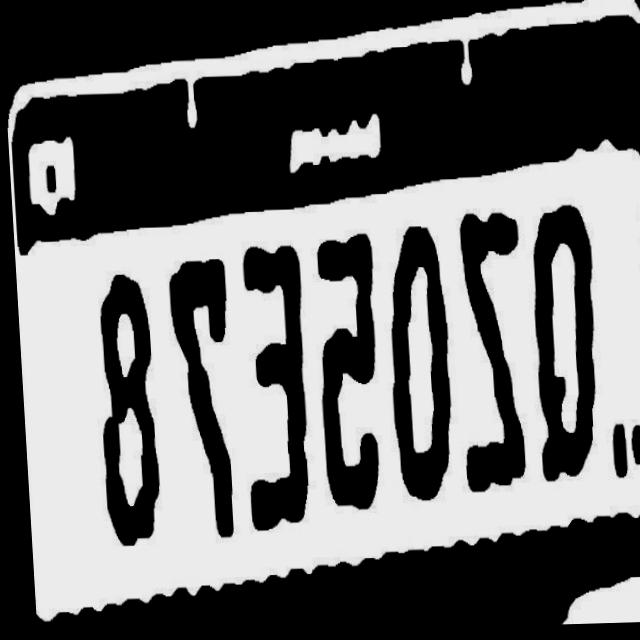5: (307, 225, 380, 515)
7: (160, 249, 239, 546)
8: (87, 262, 160, 553)
e: (229, 240, 311, 543)
o: (379, 220, 453, 508)
q: (520, 193, 600, 491)
z: (444, 210, 529, 505)
